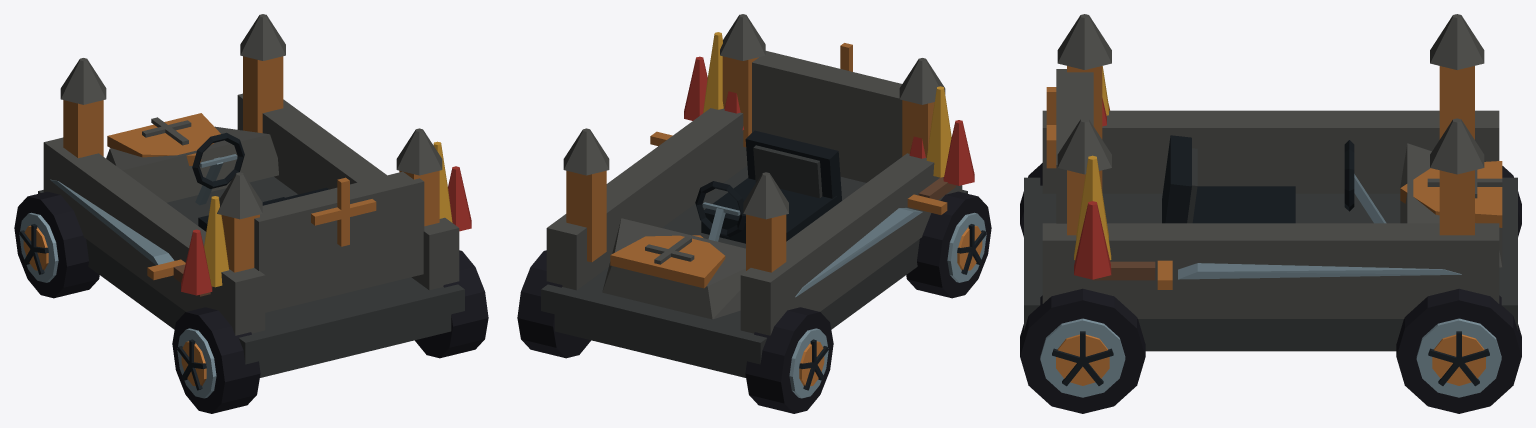
File: kart.glb
The picture shows the model from 3 angles, left to right: view 1: azimuth 30°, elevation 25°; view 2: azimuth 150°, elevation 25°; view 3: azimuth 270°, elevation 25°; orthographic projection. The views are drawn at different scales.
Visible parts, largest first — view 1: identity-reliquary-reliquary-arched-stone-chest, wheel-rear-left, wheel-front-left, identity-reliquary-motif-fire, identity-reliquary-motif-shield, wheel-rear-right, identity-reliquary-motif-swords, identity-reliquary-driver-cockpit; view 2: identity-reliquary-reliquary-arched-stone-chest, identity-reliquary-driver-cockpit, wheel-front-left, wheel-rear-left, identity-reliquary-motif-fire, identity-reliquary-motif-shield, wheel-front-right, identity-reliquary-motif-swords; view 3: identity-reliquary-reliquary-arched-stone-chest, wheel-front-right, wheel-rear-right, identity-reliquary-driver-cockpit, identity-reliquary-motif-swords, identity-reliquary-motif-fire, identity-reliquary-motif-shield.
Boxes of the visible parts, x1,y1,x2,y2 form: identity-reliquary-reliquary-arched-stone-chest: (38, 14, 464, 377); wheel-rear-left: (172, 307, 260, 413); wheel-front-left: (14, 191, 99, 298); identity-reliquary-motif-fire: (181, 141, 471, 295); identity-reliquary-motif-shield: (107, 113, 220, 165); wheel-rear-right: (415, 250, 488, 358); identity-reliquary-motif-swords: (50, 179, 210, 296); identity-reliquary-driver-cockpit: (192, 132, 329, 231); identity-reliquary-reliquary-arched-stone-chest: (541, 14, 967, 377); identity-reliquary-driver-cockpit: (695, 130, 841, 243); wheel-front-left: (745, 307, 833, 413); wheel-rear-left: (906, 191, 991, 298); identity-reliquary-motif-fire: (684, 32, 974, 185); identity-reliquary-motif-shield: (610, 235, 725, 288); wheel-front-right: (517, 250, 590, 358); identity-reliquary-motif-swords: (650, 131, 955, 297); identity-reliquary-reliquary-arched-stone-chest: (1024, 14, 1517, 351); wheel-front-right: (1396, 288, 1521, 413); wheel-rear-right: (1020, 288, 1145, 413); identity-reliquary-driver-cockpit: (1162, 135, 1386, 223); identity-reliquary-motif-swords: (1093, 260, 1461, 289); identity-reliquary-motif-fire: (1074, 66, 1111, 279); identity-reliquary-motif-shield: (1400, 161, 1502, 227).
Size of the model in its own units: 2.04 by 1.51 by 2.56.
